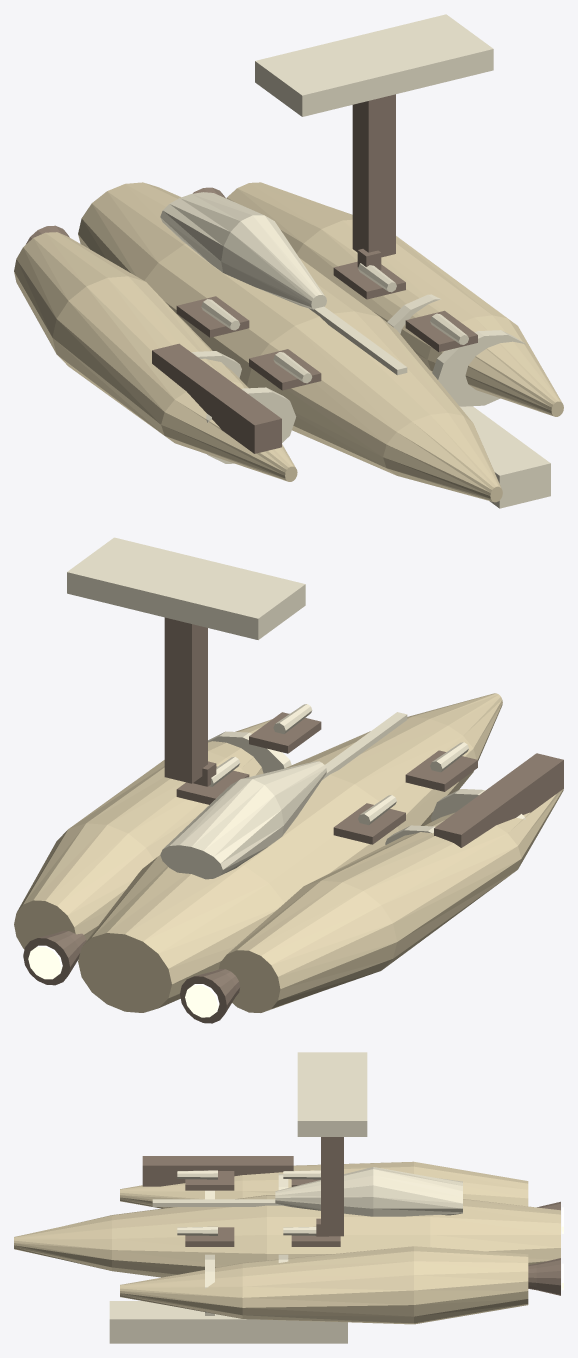
3 views of the same model, one above another, from view 1: azimuth 30°, elevation 25°; view 2: azimuth 150°, elevation 25°; view 3: azimuth 270°, elevation 25° (orthographic). The views are drawn at different scales.
Size of the model in its own units: 10.83 by 9.41 by 18.93.
